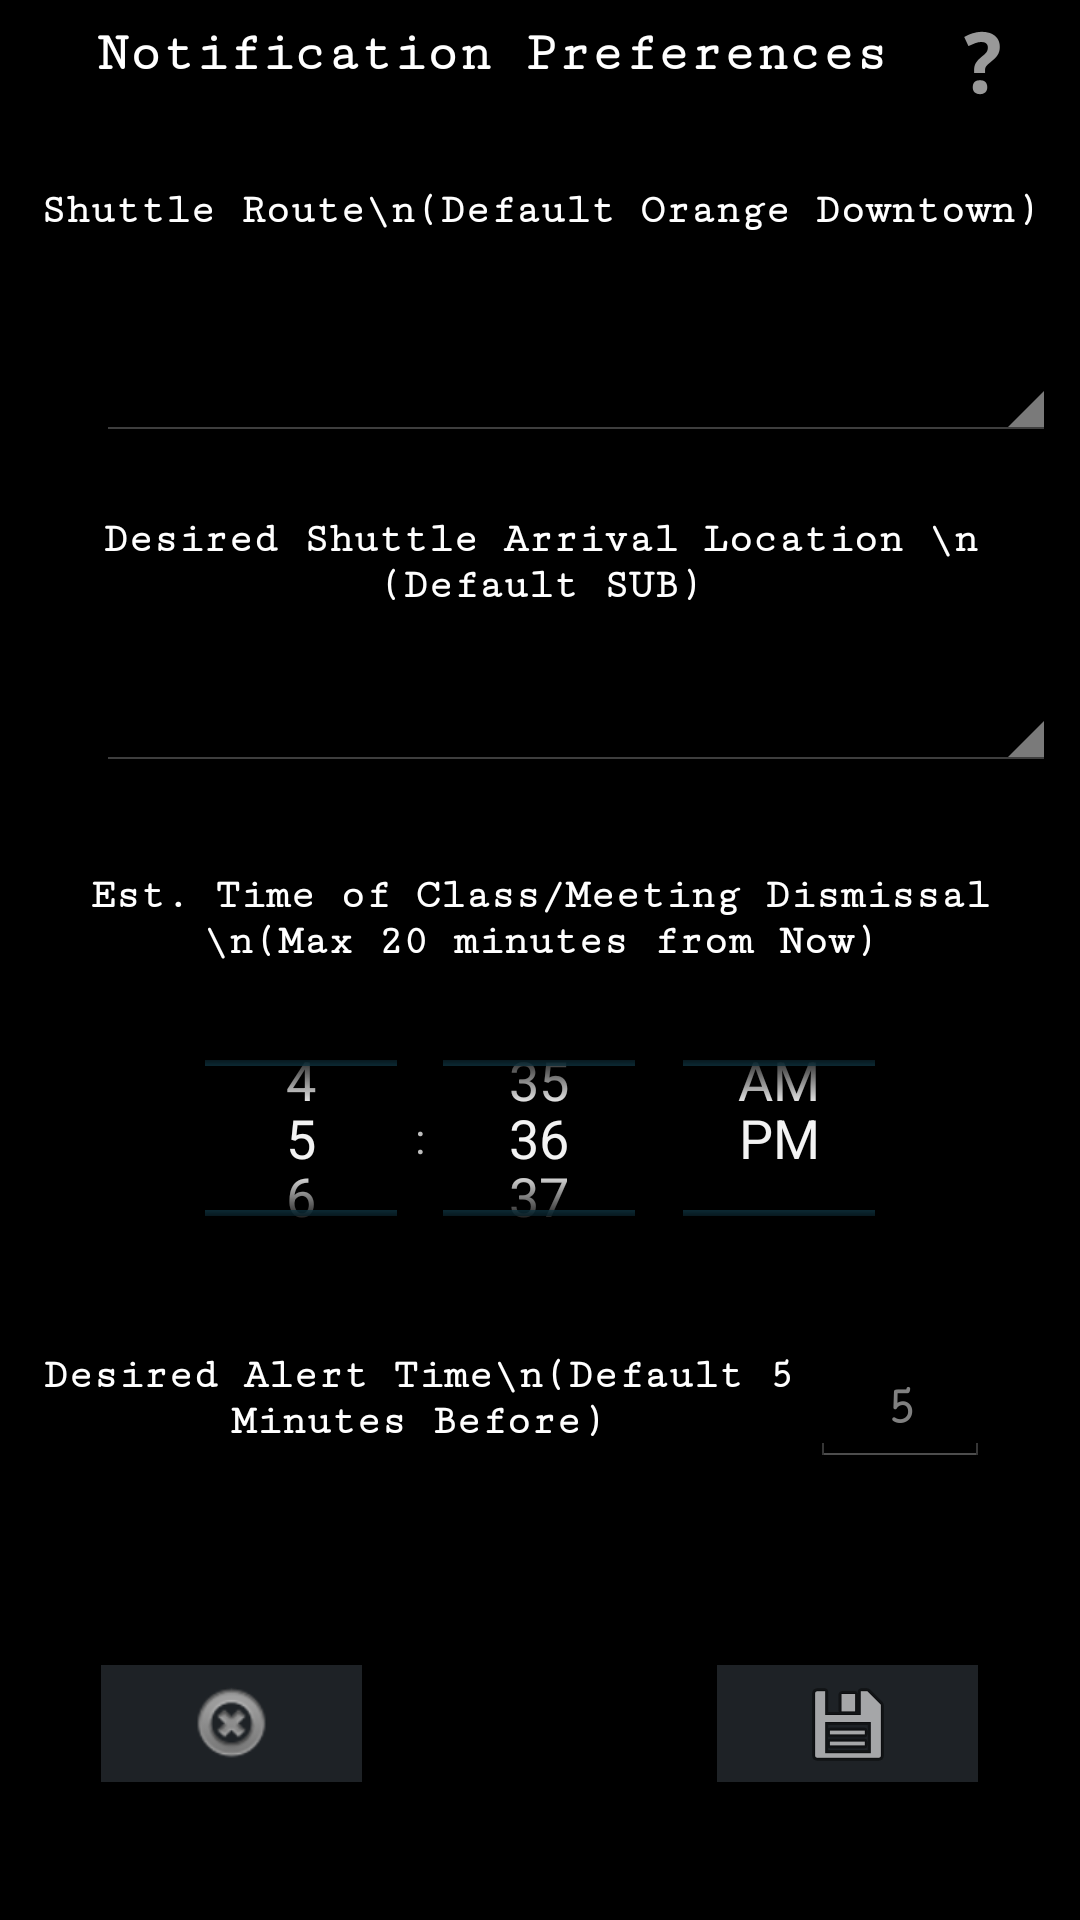

Icon click points for this 1080x1920 phone screenshot, format (x=x, y=y):
help: (x=982, y=63)
notification clear all: (x=231, y=1723)
save: (x=847, y=1723)
